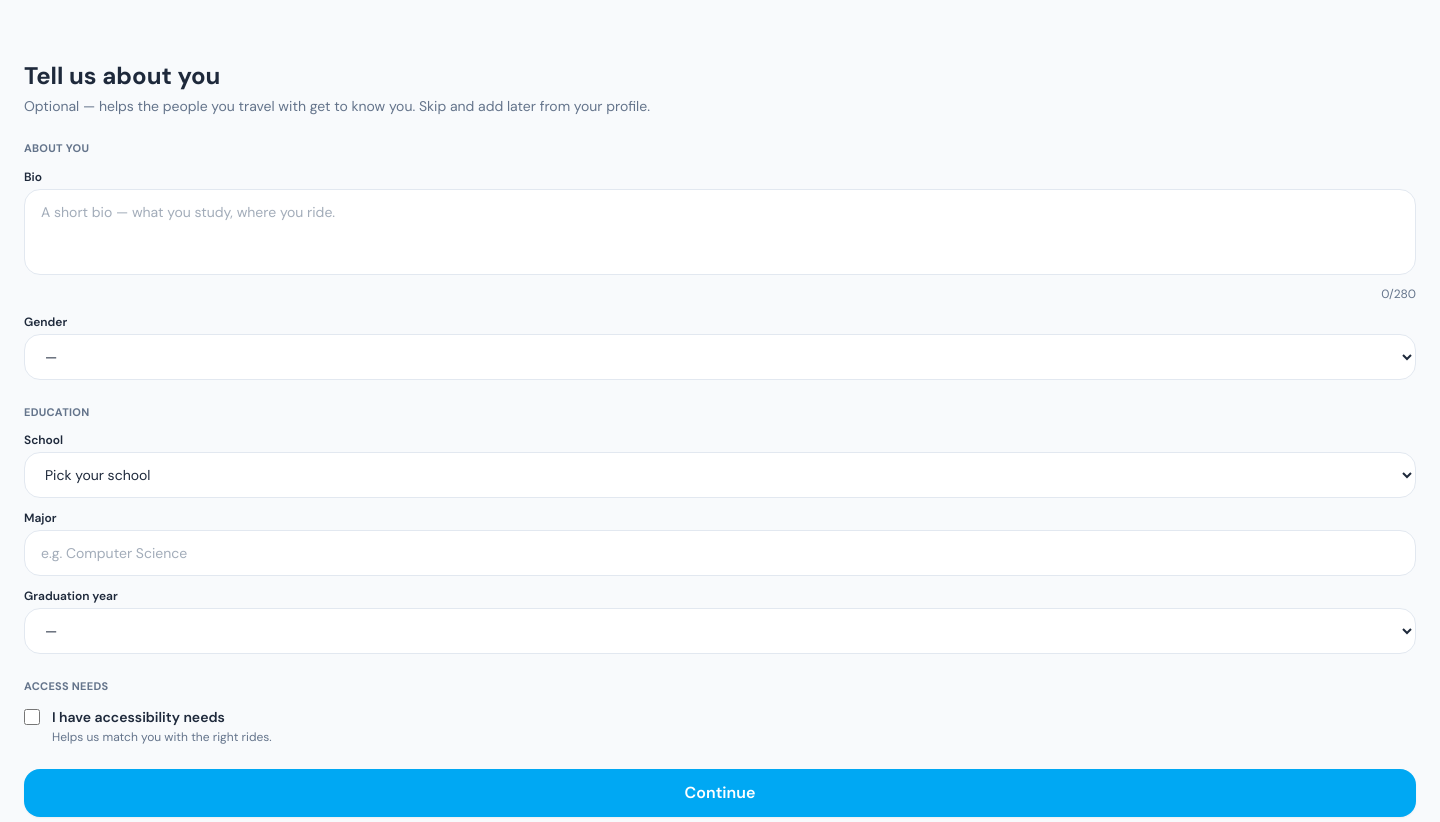
Test case: AboutYouPage › hides the caregiver sub-toggle until both access + wheelchair are on
Click the checkbox with test id "about-you-has-access" at point(32, 716), box [24,708,40,724]
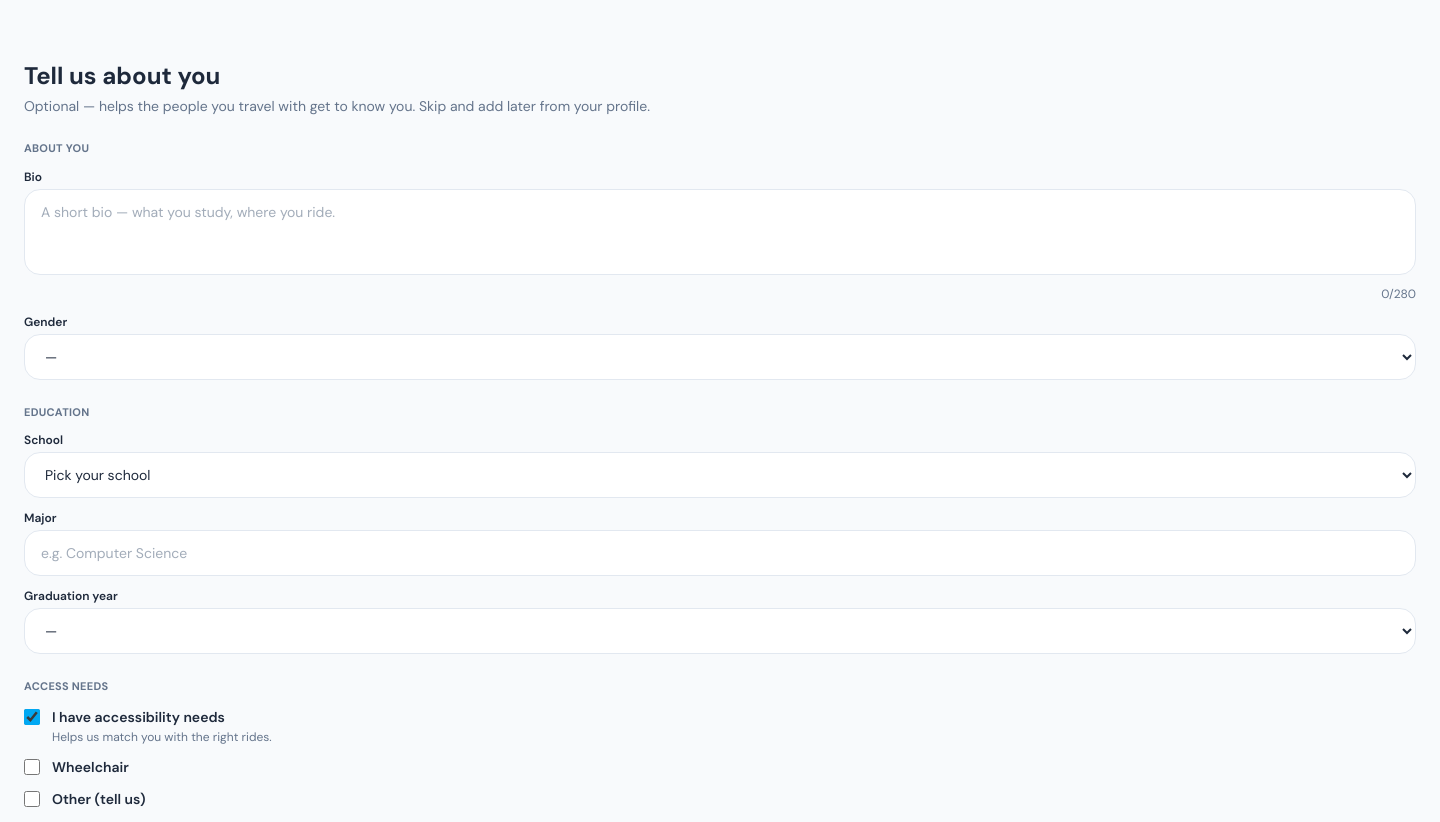
Click the checkbox with test id "about-you-needs-wheelchair" at point(32, 766), box [24,758,40,774]
(page scrolled)
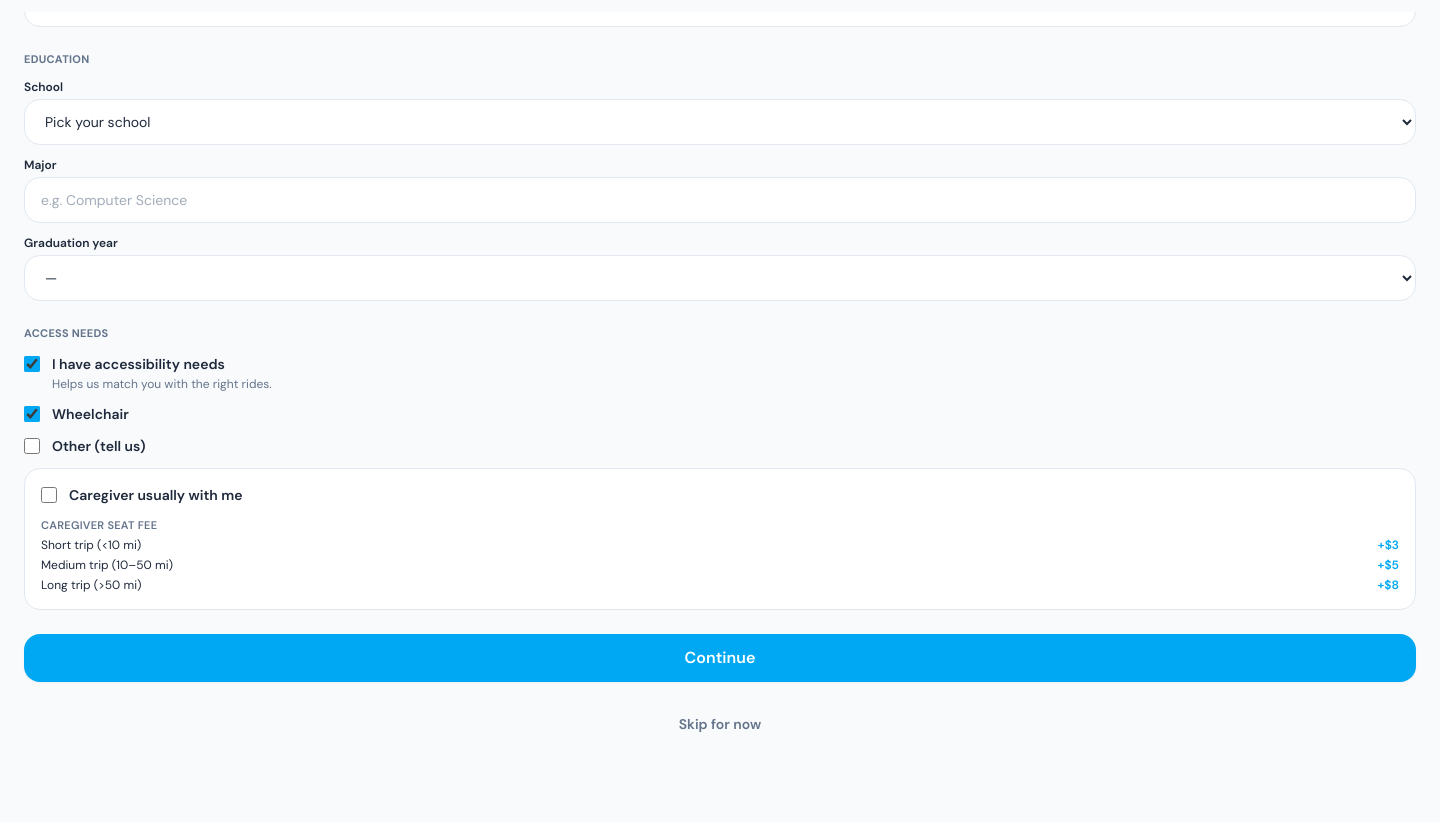
Expected: the checkbox with test id "about-you-needs-caregiver" is shown, [41,486,57,502]
